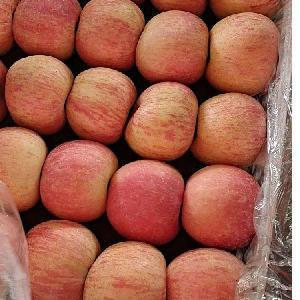apple: (105, 158, 183, 245), (38, 138, 116, 223), (180, 165, 258, 250), (24, 219, 100, 300), (124, 82, 199, 161), (208, 12, 279, 93), (190, 92, 265, 168), (64, 66, 136, 145), (2, 55, 73, 135), (136, 9, 209, 82), (82, 240, 168, 300), (75, 1, 143, 70), (168, 249, 249, 300), (1, 127, 47, 214), (12, 1, 80, 59)
